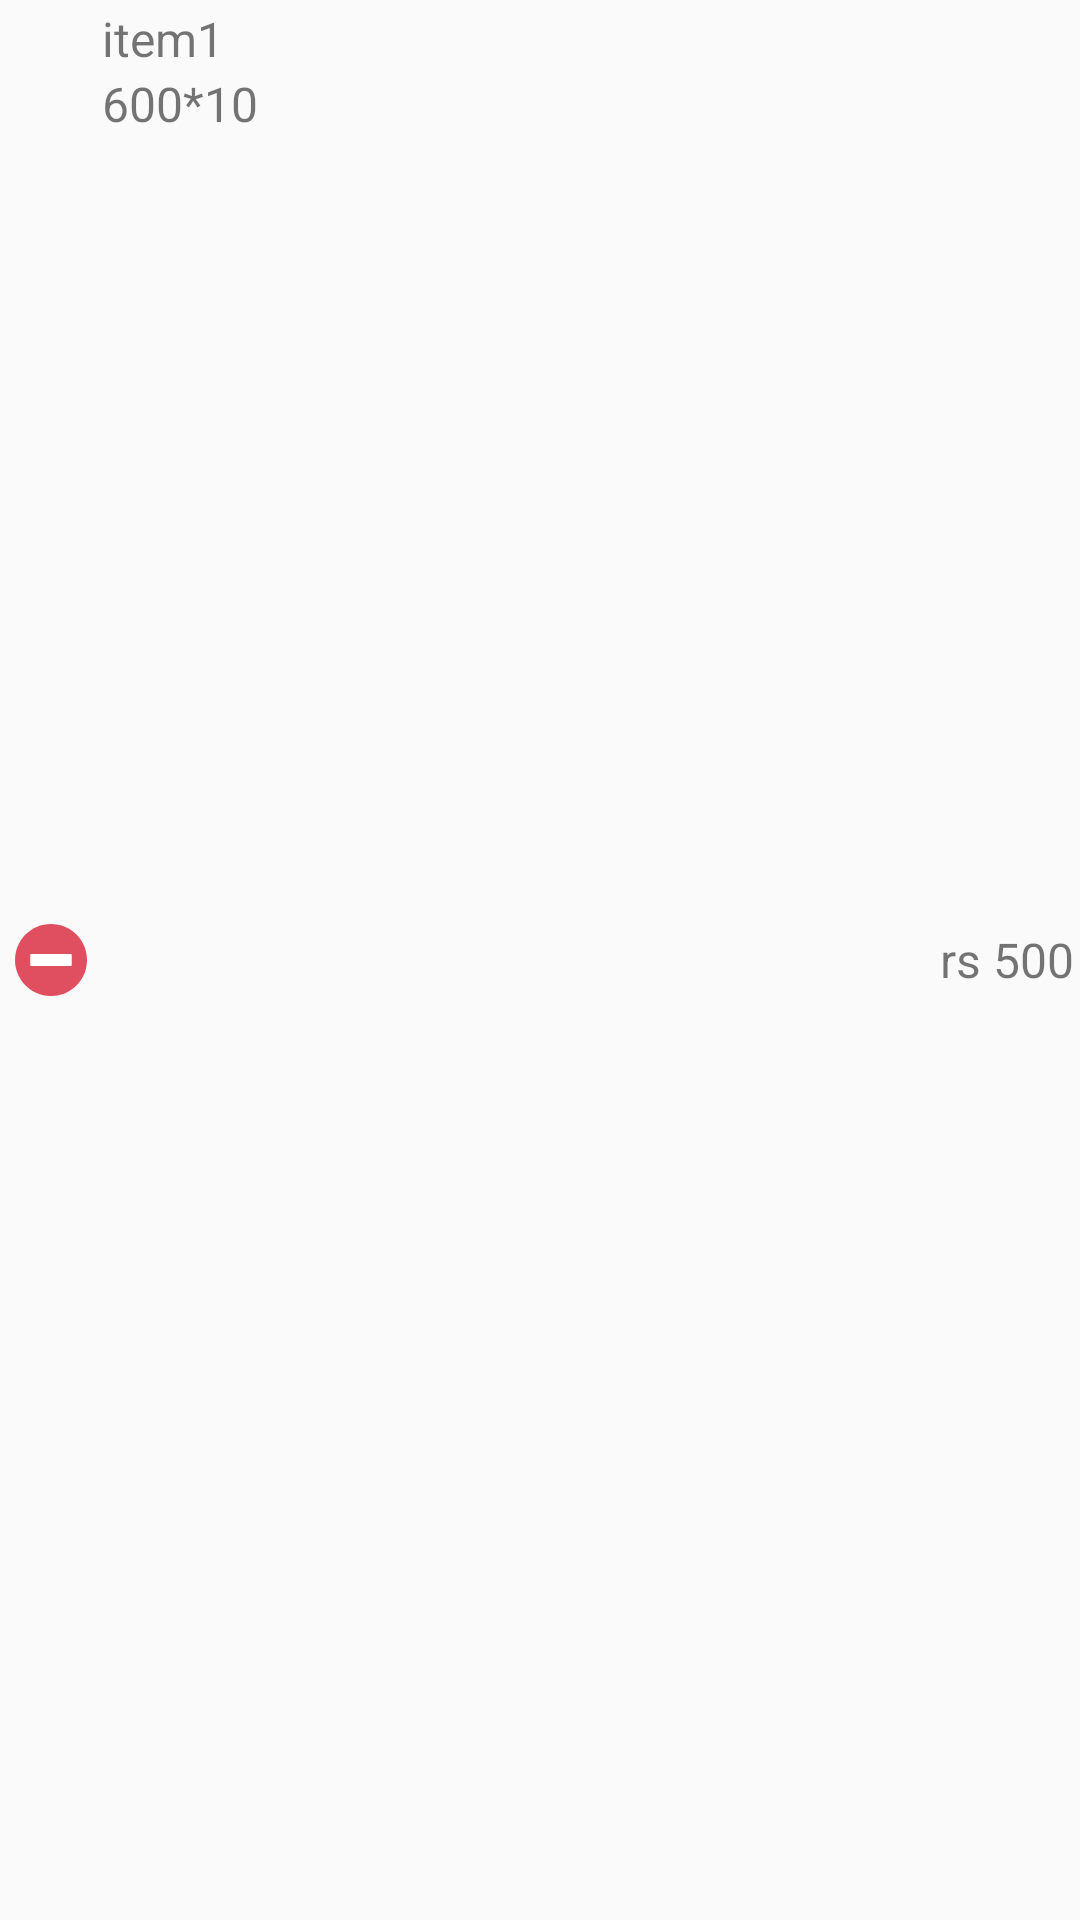

Named icons in this screenshot (1080*1920) and their centers, (x=x, y=y):
remove: (x=51, y=960)
